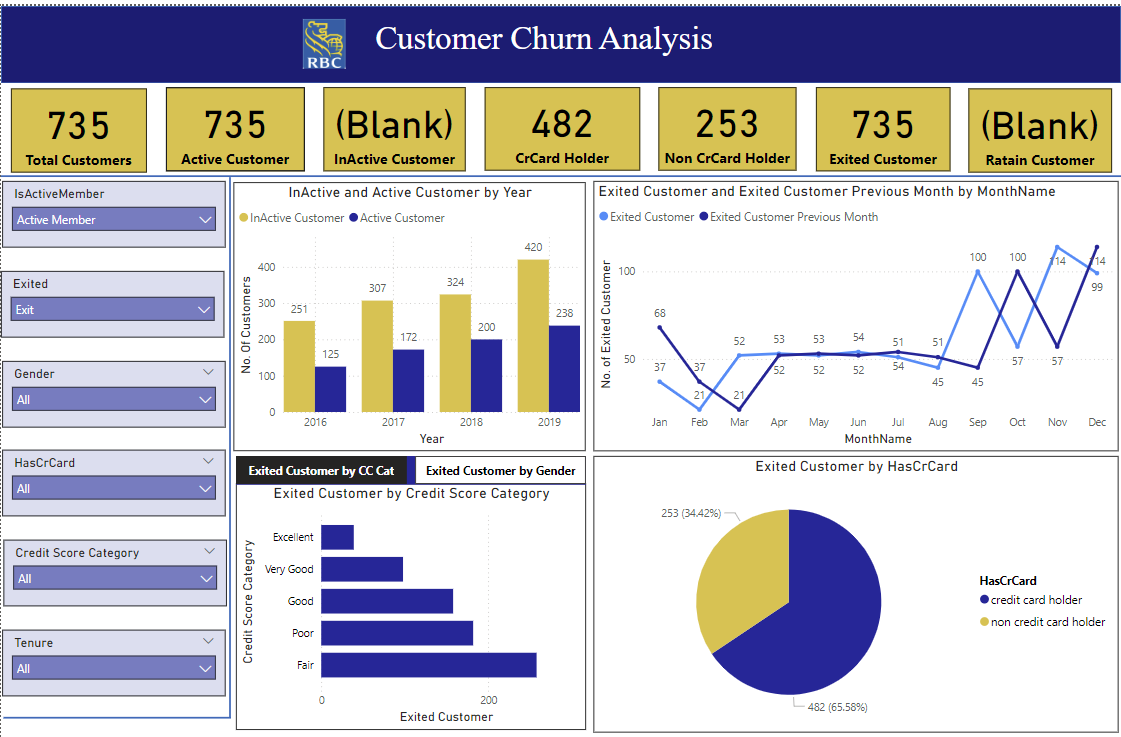

What the dashboard file says about the page in this screenshot:
{"tool":"powerbi","page":{"name":"Churn Analysis","canvas":[1280,850],"ordinal":0},"visuals":[{"type":"card","fields":{"Values":["Count(Bank_Churn.CustomerId)"]},"box":[11.2,93.8,155,96.2],"z":0},{"type":"card","fields":{"Values":["Table.Active Customer"]},"box":[187.9,92.7,158.8,96.2],"z":1000},{"type":"card","fields":{"Values":["Table.InActive Customer"]},"box":[368.3,92.7,162.5,96.2],"z":2000},{"type":"card","fields":{"Values":["Table.CrCard Holder"]},"box":[552.5,92.5,177.5,95],"z":3000},{"type":"card","fields":{"Values":["Table.Non CrCard Holder"]},"box":[751.7,92.7,157.5,95],"z":4000},{"type":"card","fields":{"Values":["Table.Exited Customer"]},"box":[930.8,92.7,153.8,96.2],"z":5000},{"type":"card","fields":{"Values":["Table.Ratain Customer"]},"box":[1106.2,93.8,163.8,96.2],"z":6000},{"type":"shape","box":[0,0,1280,88.3],"z":7000},{"type":"image","box":[318.3,10,101.7,66.7],"z":8000},{"type":"textbox","box":[416.7,10,406.7,53.3],"z":9000},{"type":"shape","box":[0,186.2,1280,17.5],"z":10000},{"type":"shape","box":[256,196,12,618],"z":11000},{"type":"slicer","fields":{"Values":["Bank_Churn.IsActiveMember"]},"box":[1.2,200,255,76.2],"z":12000},{"type":"slicer","fields":{"Values":["Bank_Churn.Exited"]},"box":[0,302.5,255,76.2],"z":13000},{"type":"slicer","fields":{"Values":["Bank_Churn.Gender"]},"box":[1.2,405,255,76.2],"z":14000},{"type":"slicer","fields":{"Values":["Bank_Churn.HasCrCard"]},"box":[1.2,507.5,255,76.2],"z":15000},{"type":"slicer","fields":{"Values":["Bank_Churn.Credit Score Category"]},"box":[2.5,610,255,76.2],"z":16000},{"type":"slicer","fields":{"Values":["Bank_Churn.Tenure"]},"box":[1.2,712.5,255,76.2],"z":17000},{"type":"shape","box":[2.5,807.5,260,12.5],"z":18000},{"type":"clusteredColumnChart","title":"InActive and Active Customer by Year","fields":{"Y":["Table.InActive Customer","Table.Active Customer"],"Category":["DateTable.Date.Variation.Date Hierarchy.Year","DateTable.MonthName"]},"box":[266.2,201.2,402.5,307.5],"z":19000},{"type":"lineChart","fields":{"Y":["Table.Exited Customer","Table.Exited Customer Previous Month"],"Category":["DateTable.Date.Variation.Date Hierarchy.Year","DateTable.MonthName"]},"box":[677.5,200,600,308.8],"z":20000},{"type":"donutChart","fields":{"Category":["Bank_Churn.Gender"],"Y":["CountNonNull(Bank_Churn.Exited)"]},"box":[268.8,546.2,400,283.8],"z":21000},{"type":"pieChart","fields":{"Category":["Bank_Churn.HasCrCard"],"Y":["Table.Exited Customer"]},"box":[677.1,514.3,600,315.7],"z":23000},{"type":"bookmarkNavigator","box":[268.8,513.8,400,32.5],"z":24000}]}

Visuals, with their boxes in screenshot pixels (x1, y1, x2, y2), scaled from the page's 1280x850 canvas onto the 1121x737 screenshot:
card - Count(Bank_Churn.CustomerId): <box>10,81,146,165</box>
card - Table.Active Customer: <box>165,80,304,164</box>
card - Table.InActive Customer: <box>323,80,465,164</box>
card - Table.CrCard Holder: <box>484,80,639,163</box>
card - Table.Non CrCard Holder: <box>658,80,796,163</box>
card - Table.Exited Customer: <box>815,80,950,164</box>
card - Table.Ratain Customer: <box>969,81,1112,165</box>
shape: <box>0,0,1120,77</box>
image: <box>279,9,368,67</box>
textbox: <box>365,9,721,55</box>
shape: <box>0,161,1120,177</box>
shape: <box>224,170,235,706</box>
slicer - Bank_Churn.IsActiveMember: <box>1,173,224,239</box>
slicer - Bank_Churn.Exited: <box>0,262,223,328</box>
slicer - Bank_Churn.Gender: <box>1,351,224,417</box>
slicer - Bank_Churn.HasCrCard: <box>1,440,224,506</box>
slicer - Bank_Churn.Credit Score Category: <box>2,529,226,595</box>
slicer - Bank_Churn.Tenure: <box>1,618,224,684</box>
shape: <box>2,700,230,711</box>
"InActive and Active Customer by Year" clusteredColumnChart: <box>233,174,586,441</box>
lineChart - Table.Exited Customer x Table.Exited Customer Previous Month: <box>593,173,1119,441</box>
donutChart - Bank_Churn.Gender x CountNonNull(Bank_Churn.Exited): <box>235,474,586,720</box>
pieChart - Bank_Churn.HasCrCard x Table.Exited Customer: <box>593,446,1118,720</box>
bookmarkNavigator: <box>235,445,586,474</box>
